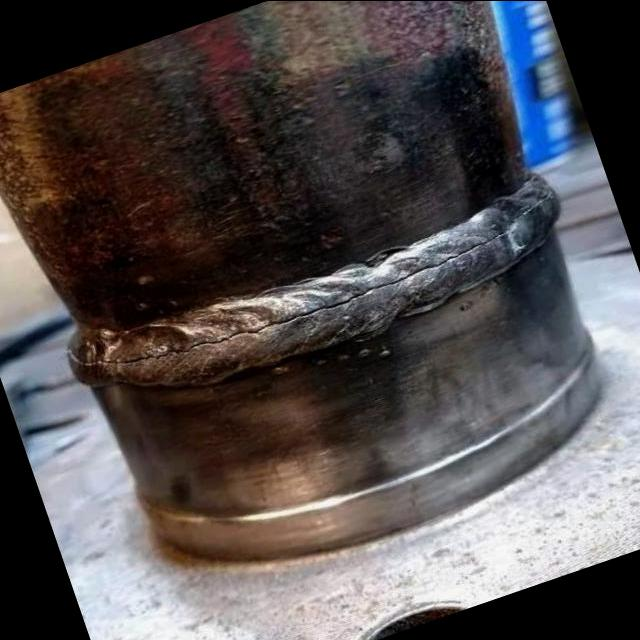defect: (64, 188, 554, 367)
